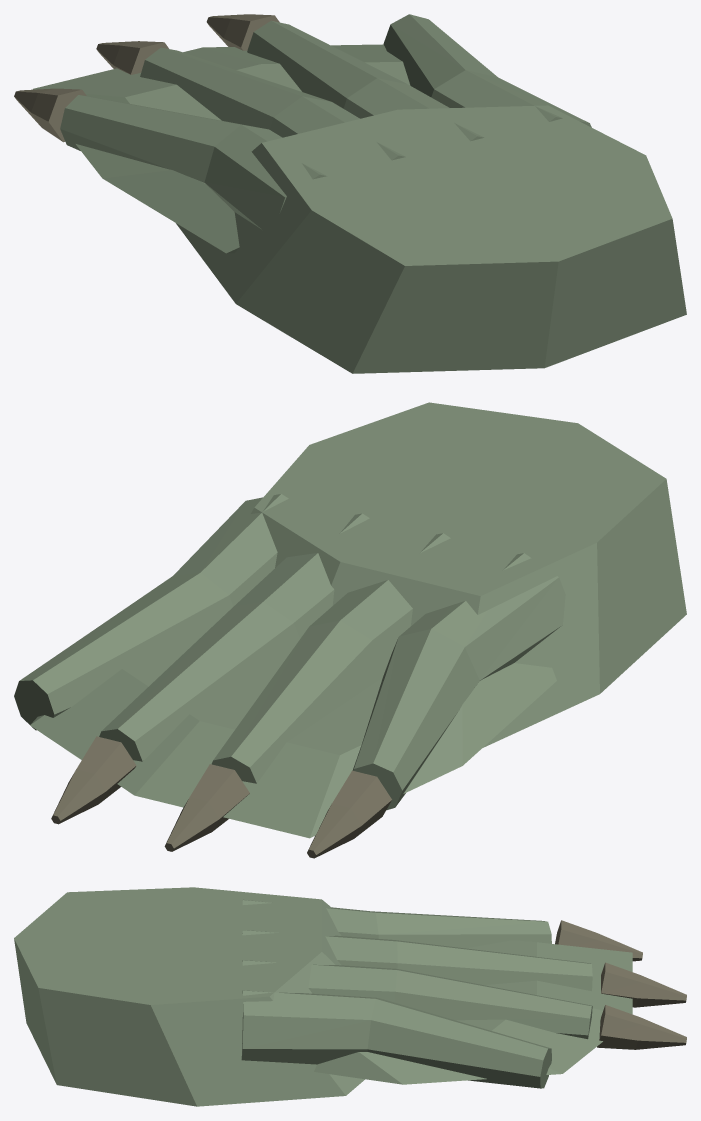
Rendered from croc_foot_hr_01.glb.
3 views of the same model, one above another, from view 1: azimuth 30°, elevation 25°; view 2: azimuth 150°, elevation 25°; view 3: azimuth 270°, elevation 25° (orthographic). The views are drawn at different scales.
Parts seen in each view (by area): view 1: HindRPalm, HindRToe0, HindRWeb, HindRToe1, HindRToe2, HindRToe3, HindRClaw0, HindRClaw2, HindRClaw1; view 2: HindRPalm, HindRWeb, HindRToe0, HindRToe3, HindRToe2, HindRToe1, HindRClaw0, HindRClaw2, HindRClaw1; view 3: HindRPalm, HindRToe3, HindRWeb, HindRToe2, HindRToe1, HindRToe0, HindRClaw2, HindRClaw1, HindRClaw0.
Boxes of the visible parts, x1,y1,x2,y2 form: HindRPalm: [176, 105, 686, 373]; HindRToe0: [60, 95, 326, 230]; HindRWeb: [33, 44, 410, 253]; HindRToe1: [140, 47, 405, 160]; HindRToe2: [247, 20, 484, 141]; HindRToe3: [383, 14, 591, 127]; HindRClaw0: [14, 88, 86, 142]; HindRClaw2: [206, 14, 279, 50]; HindRClaw1: [96, 41, 168, 74]; HindRPalm: [251, 402, 686, 747]; HindRWeb: [30, 646, 556, 838]; HindRToe0: [352, 553, 565, 810]; HindRToe3: [14, 494, 288, 730]; HindRToe2: [99, 513, 369, 761]; HindRToe1: [211, 533, 450, 783]; HindRClaw0: [307, 770, 391, 858]; HindRClaw2: [51, 736, 136, 824]; HindRClaw1: [164, 764, 249, 851]; HindRPalm: [14, 887, 364, 1106]; HindRToe3: [241, 990, 551, 1088]; HindRWeb: [314, 940, 632, 1084]; HindRToe2: [242, 960, 592, 1039]; HindRToe1: [242, 930, 592, 991]; HindRToe0: [242, 899, 551, 948]; HindRClaw2: [597, 1005, 686, 1049]; HindRClaw1: [601, 962, 686, 1007]; HindRClaw0: [555, 920, 642, 961].
Size of the model in its own units: 0.1273 by 0.036 by 0.2447.
